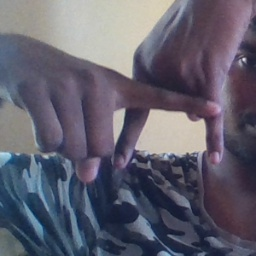H: (90, 48, 238, 183)
